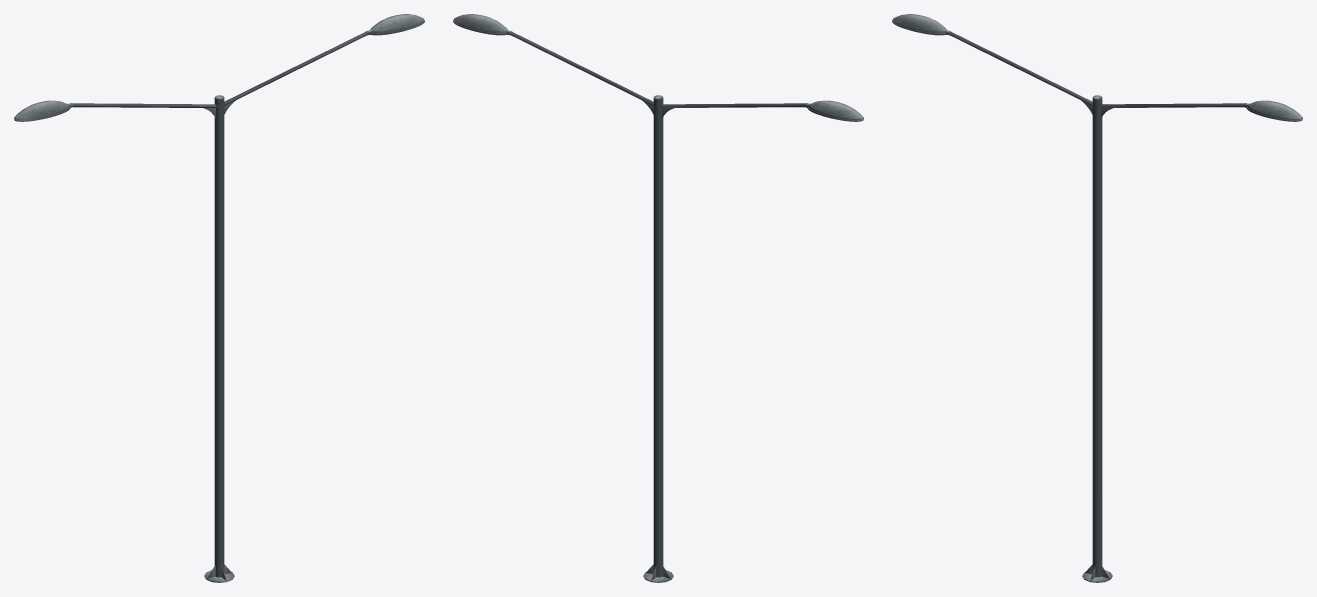
3 views of the same model, side by side, from view 1: azimuth 30°, elevation 25°; view 2: azimuth 150°, elevation 25°; view 3: azimuth 330°, elevation 25° (orthographic).
Visible parts, largest first — view 1: MainBuilding; view 2: MainBuilding; view 3: MainBuilding.
Boxes of the visible parts, box(x1,y1,x2,y2) form: MainBuilding: box(14, 14, 424, 582); MainBuilding: box(453, 14, 863, 582); MainBuilding: box(892, 14, 1302, 582).
Size of the model in its own units: 6.95 by 8.38 by 0.4434.
1 material, 1 textured.
